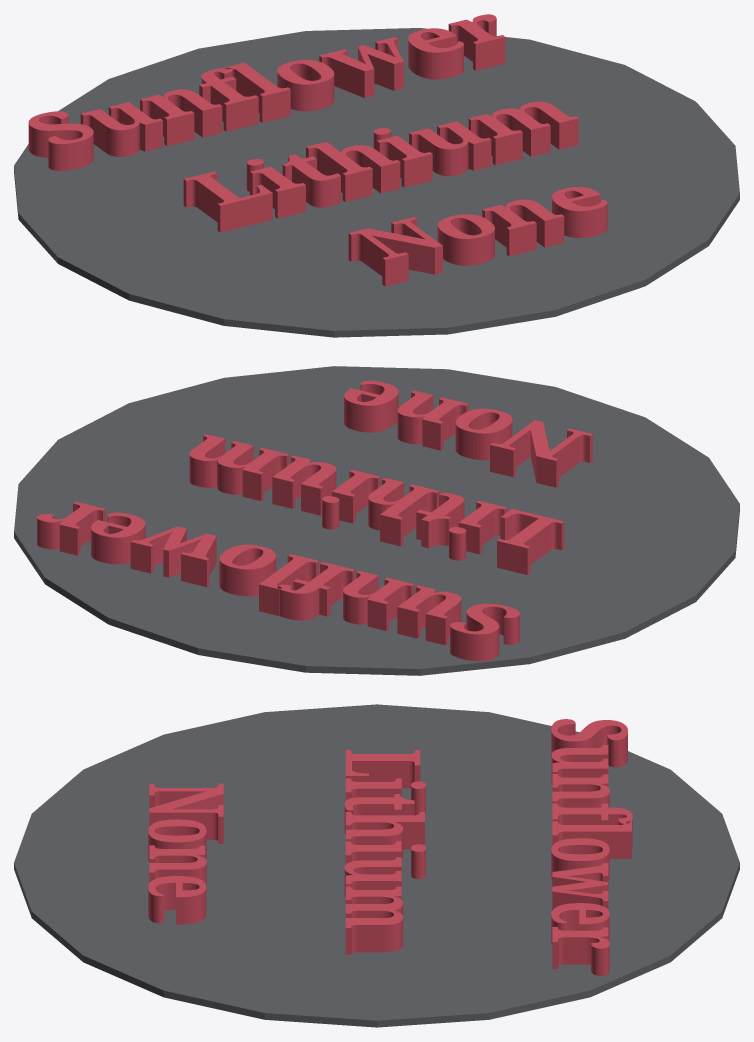
Rendered from sanfran.gltf.
3 views of the same model, one above another, from view 1: azimuth 30°, elevation 25°; view 2: azimuth 150°, elevation 25°; view 3: azimuth 270°, elevation 25° (orthographic).
Visible parts, largest first — view 1: Mesh_Mesh_head_geo001_lambert2SG001; view 2: Mesh_Mesh_head_geo001_lambert2SG001; view 3: Mesh_Mesh_head_geo001_lambert2SG001.
Boxes of the visible parts, x1,y1,x2,y2 form: Mesh_Mesh_head_geo001_lambert2SG001: [14, 14, 739, 337]; Mesh_Mesh_head_geo001_lambert2SG001: [14, 366, 739, 675]; Mesh_Mesh_head_geo001_lambert2SG001: [14, 704, 739, 1027].
Size of the model in its own units: 199 by 10 by 193.
